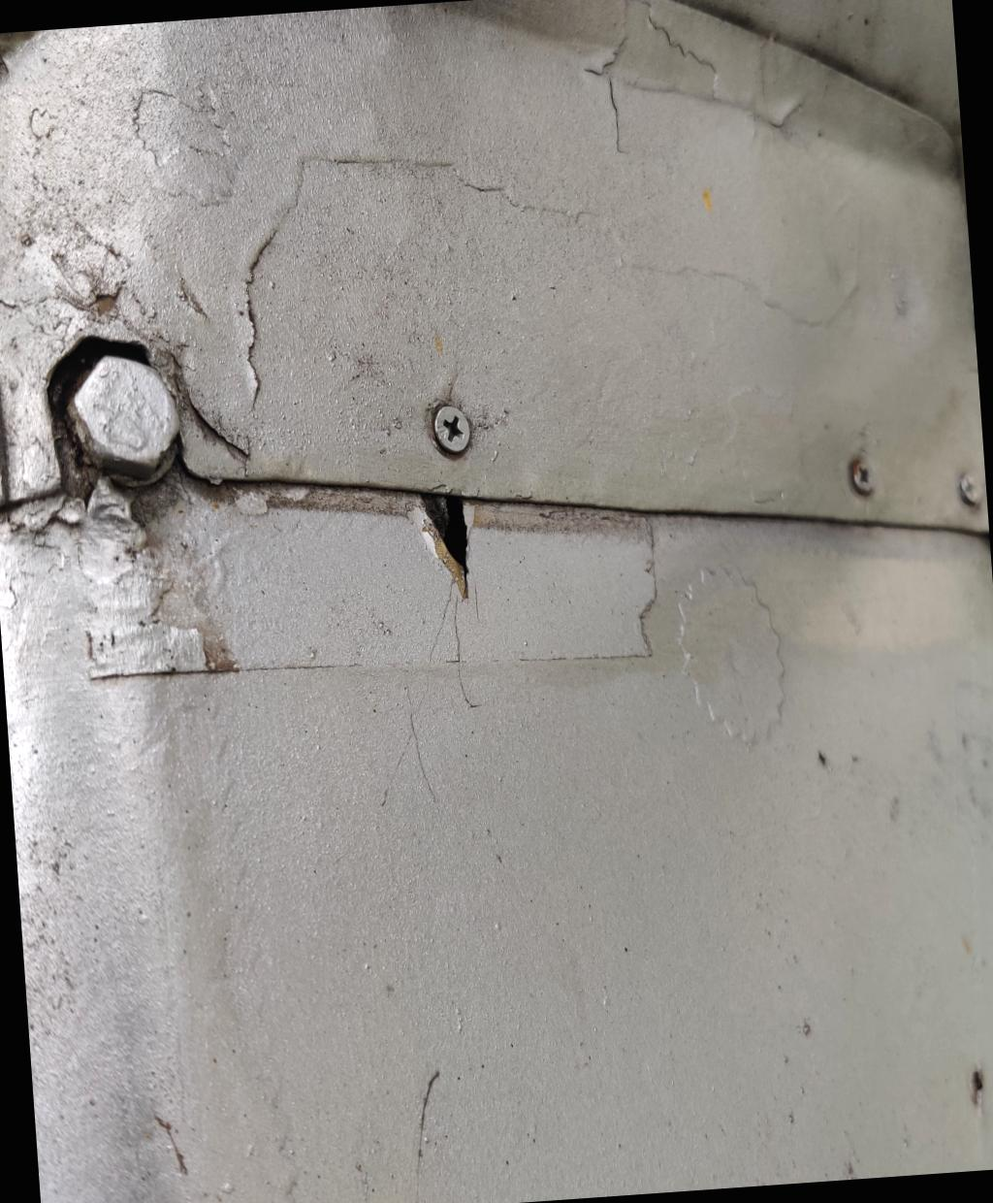crack: (371, 452, 519, 660)
